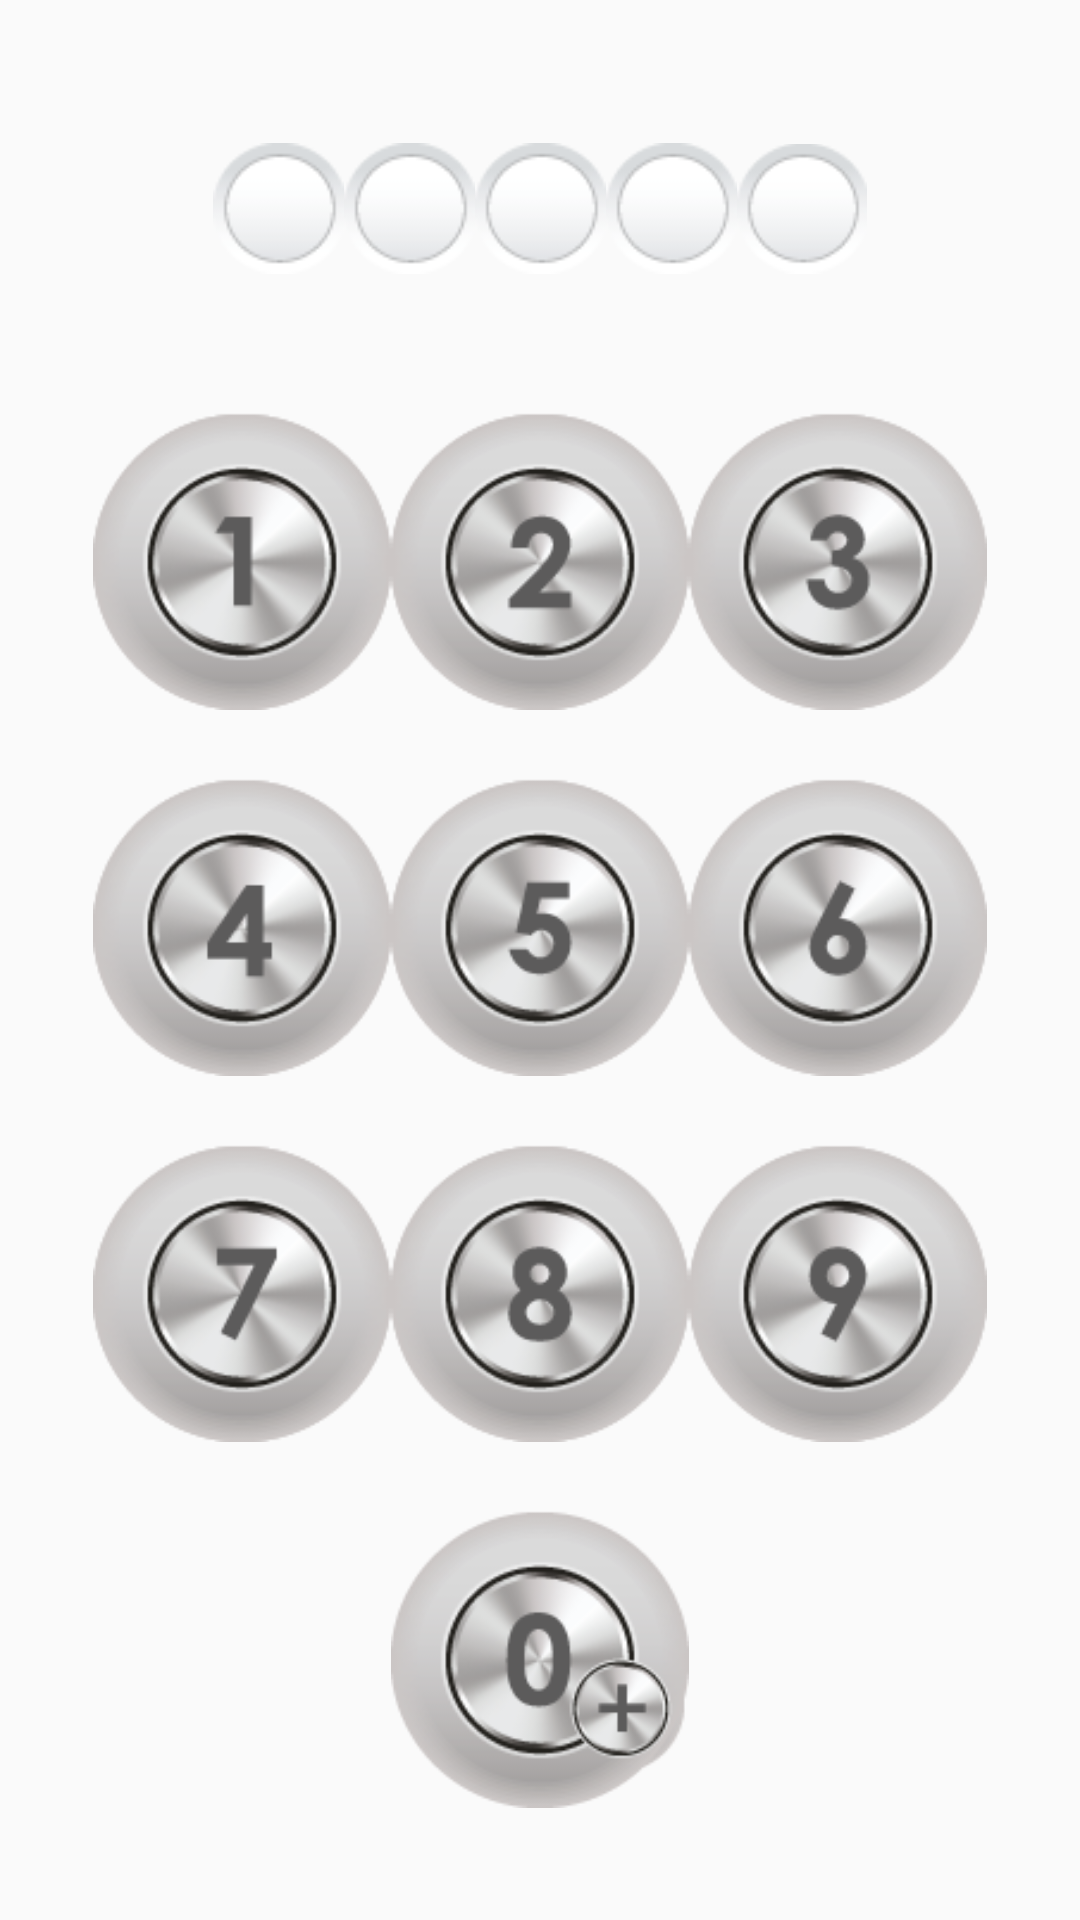

Icons on this 1080px x 1920px Android screen, each with its box as BBox(x1, y1, x2, y2):
nostar psw: BBox(220, 143, 337, 263), BBox(351, 143, 468, 263), BBox(482, 143, 599, 263), BBox(613, 143, 730, 263), BBox(744, 144, 861, 263)
